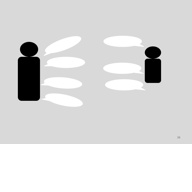left_speech: (42, 32, 84, 57), (41, 92, 84, 110), (41, 74, 83, 90), (42, 56, 87, 69)
right_speech: (101, 32, 144, 50), (101, 58, 144, 76), (102, 77, 147, 94)
